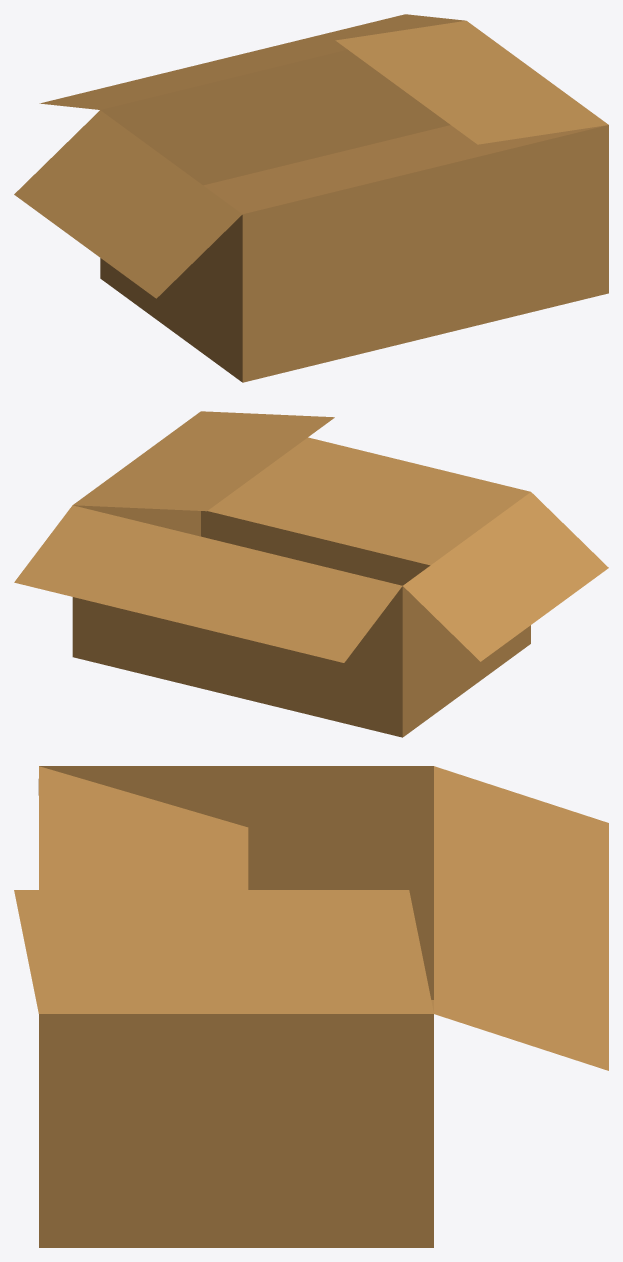
3 renders of one model, top to bottom at view 1: azimuth 30°, elevation 25°; view 2: azimuth 150°, elevation 25°; view 3: azimuth 270°, elevation 25°, orthographic. The views are drawn at different scales.
Parts seen in each view (by area): view 1: Cube; view 2: Cube; view 3: Cube.
Boxes of the visible parts, <box> form: Cube: <box>14,14,608,382</box>; Cube: <box>14,411,608,737</box>; Cube: <box>14,766,608,1247</box>.
Size of the model in its own units: 368 by 147 by 301.
